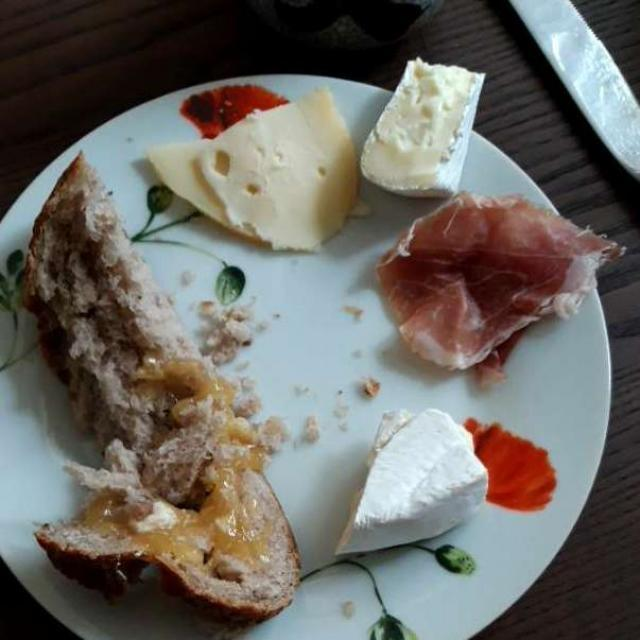bread: (22, 159, 297, 615)
butter: (130, 496, 194, 523)
cheese: (346, 59, 498, 553), (144, 92, 358, 251)
ham: (382, 195, 611, 376)
honey: (86, 360, 270, 558)
